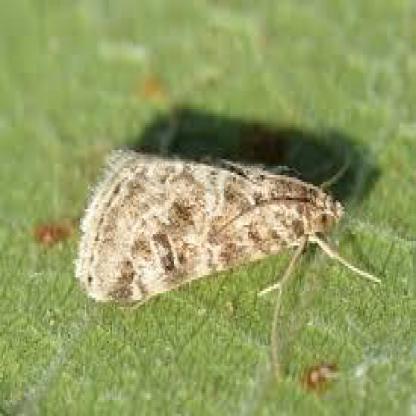Hellula undalis: (68, 137, 385, 389)
